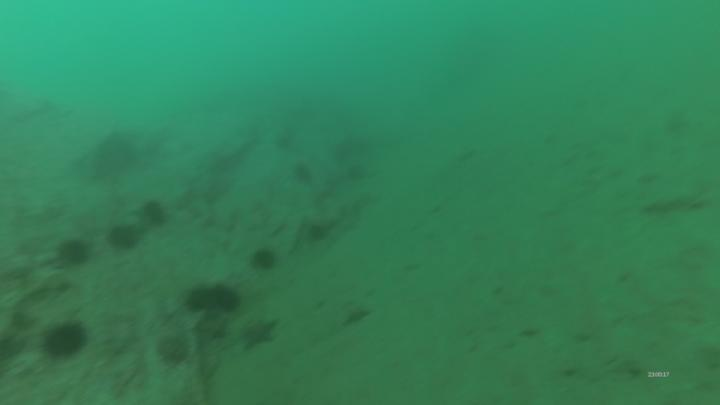echinus: (46, 324, 83, 356), (187, 287, 216, 312), (107, 224, 136, 248), (216, 283, 239, 313), (63, 239, 88, 263), (250, 250, 276, 271), (144, 203, 162, 225)
starfish: (237, 319, 276, 352), (344, 307, 369, 325)
